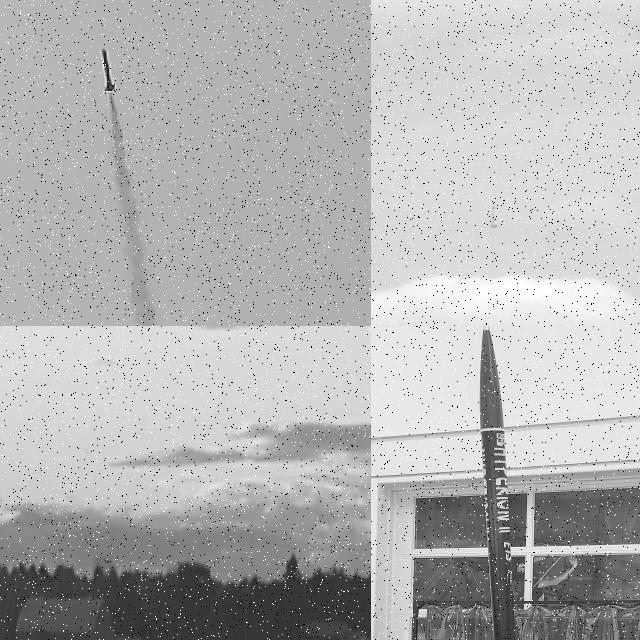Rocket: (479, 326, 516, 640), (100, 48, 116, 92), (490, 205, 498, 229)
